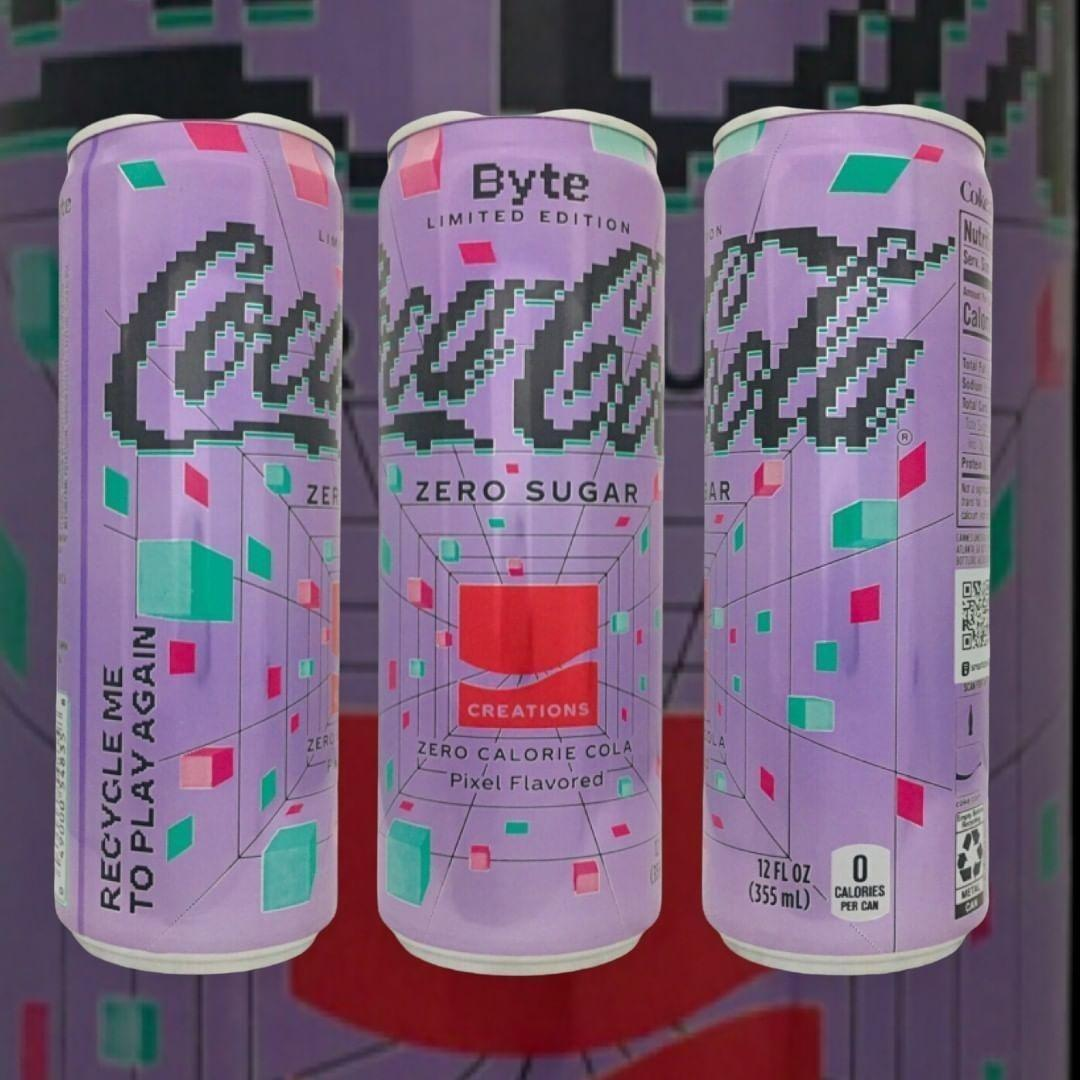tin can: (361, 96, 680, 975), (694, 97, 1009, 977), (49, 102, 360, 977)
